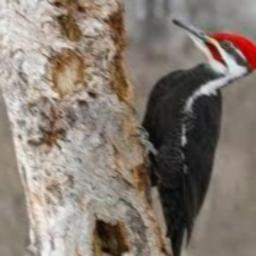Woodpecker: (140, 17, 256, 256)
